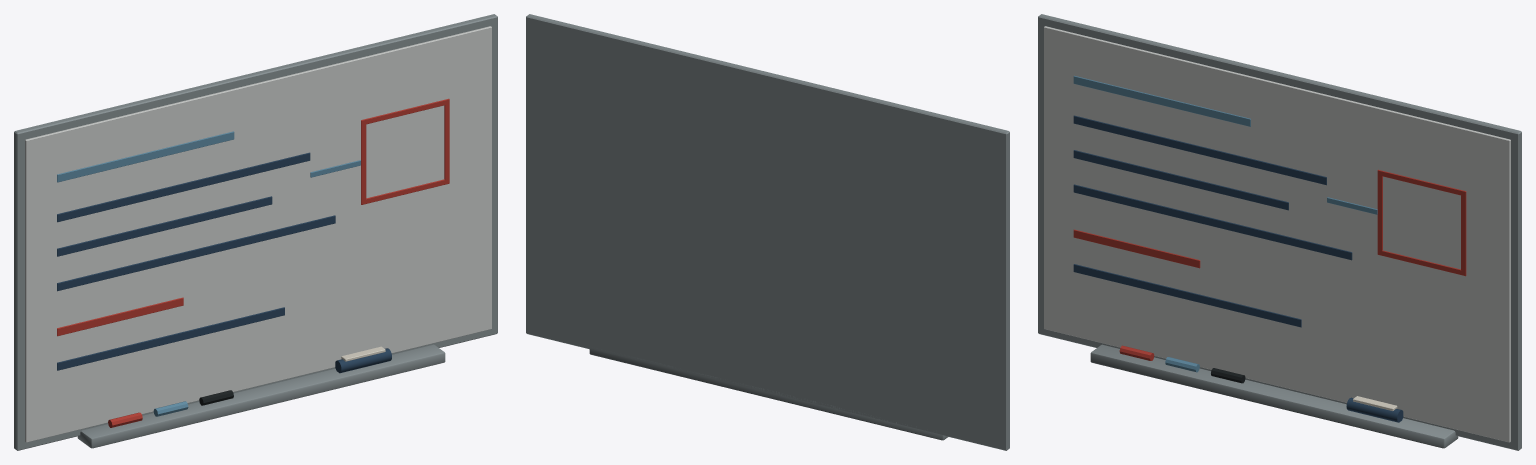
Rendered from whiteboard.glb.
The picture shows the model from 3 angles, left to right: view 1: azimuth 30°, elevation 25°; view 2: azimuth 150°, elevation 25°; view 3: azimuth 330°, elevation 25°; orthographic projection.
Visible parts, largest first — view 1: whiteboard; view 2: whiteboard; view 3: whiteboard.
Part boxes in pixels (left/top/right/bottom): whiteboard: left=14, top=14, right=497, bottom=450; whiteboard: left=526, top=14, right=1009, bottom=450; whiteboard: left=1038, top=14, right=1521, bottom=450.
Bounding box in the file's own units: 1.9 × 1.22 × 0.1.
